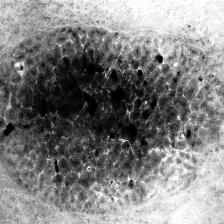Benign Marking or Mole: (0, 25, 224, 216)
